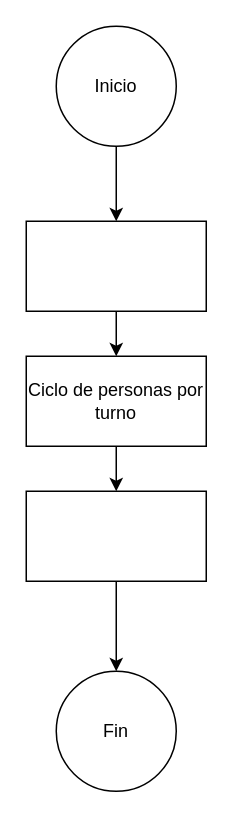
The diagram is 233 pixels wide and 818 high, and some of its shapes have lost their labels. Each missing label, with the centre of its shape:
Aparece Personas: (x=115, y=265)
Termina de existir la última persona: (x=115, y=535)
